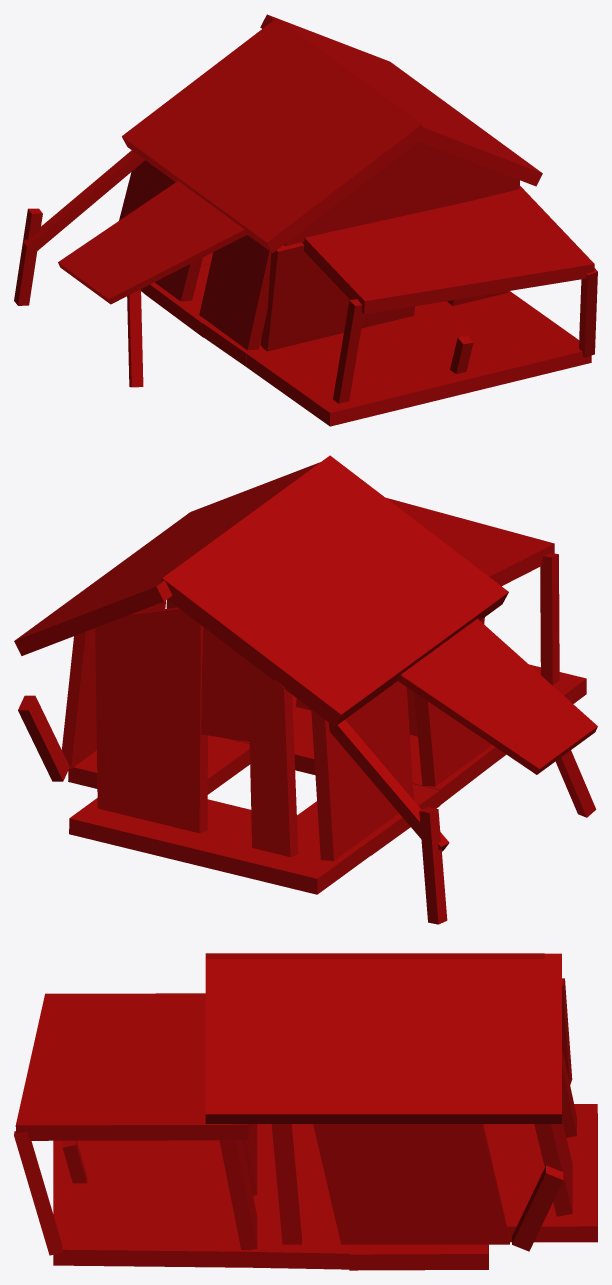
File: SM_Bld_Shack_Pirate_01_Collision.glb
3 renders of one model, top to bottom at view 1: azimuth 30°, elevation 25°; view 2: azimuth 150°, elevation 25°; view 3: azimuth 270°, elevation 25°, orthographic. The views are drawn at different scales.
Visible parts, largest first — view 1: SM_Bld_Shack_Pirate_01_Collision; view 2: SM_Bld_Shack_Pirate_01_Collision; view 3: SM_Bld_Shack_Pirate_01_Collision.
Boxes of the visible parts, box(x1,y1,x2,y2) form: SM_Bld_Shack_Pirate_01_Collision: box(14, 14, 597, 426); SM_Bld_Shack_Pirate_01_Collision: box(14, 455, 597, 924); SM_Bld_Shack_Pirate_01_Collision: box(14, 953, 597, 1270).
Size of the model in its own units: 9.21 by 5.19 by 10.14.
